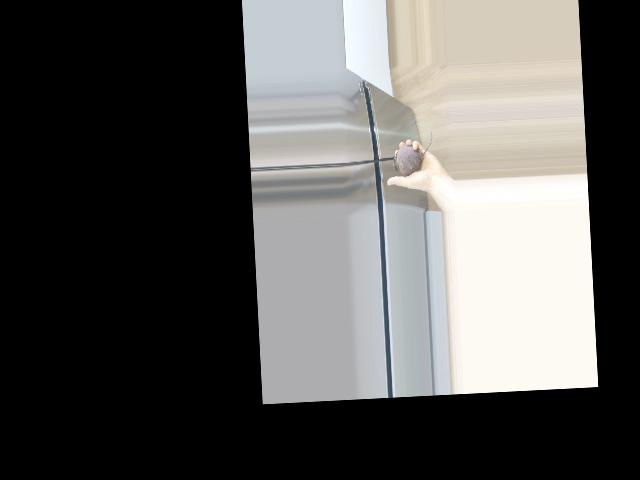beet: (391, 130, 434, 176)
